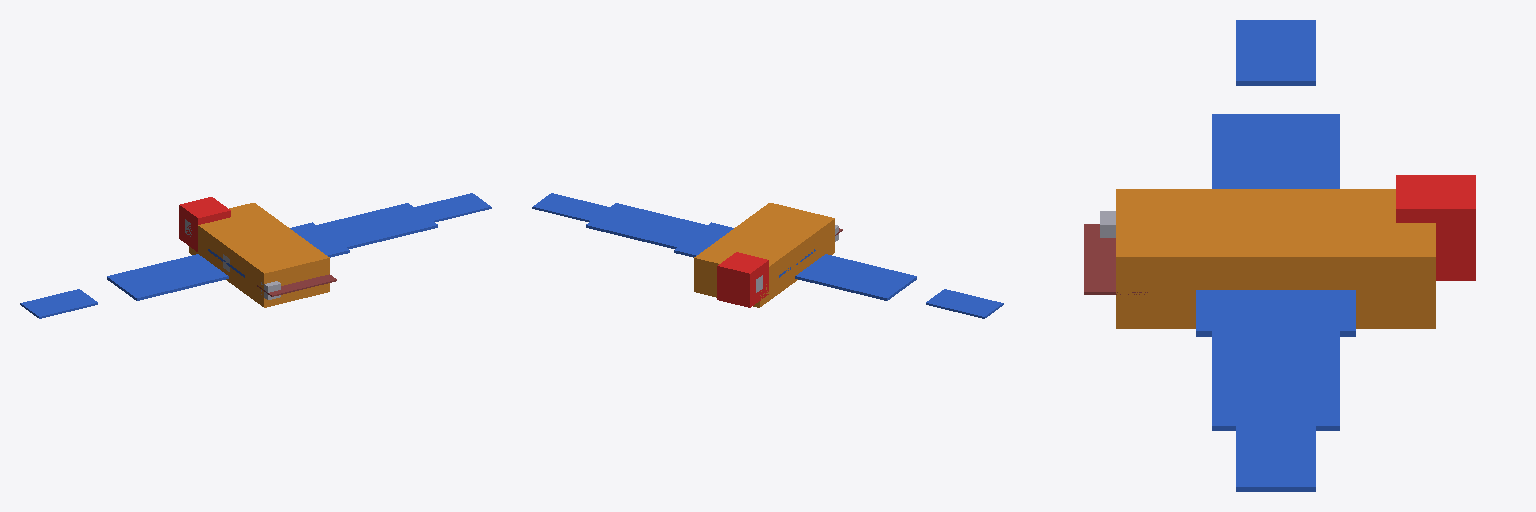
The robot description file, URDF, robot "flapper_15dof":
<?xml version="1.0"?>
<robot name="flapper_15dof">
  <link name="body">
    <inertial>
      <origin xyz="0 0 0"/>
      <mass value="0.012"/>
      <inertia ixx="4.250e-05" iyy="1.250e-05" izz="5.000e-05"/>
    </inertial>
    <visual>
      <origin xyz="0.05 0 0"/>
      <geometry><box size="0.1 0.2 0.05"/></geometry>
      <material name="body_mat"><color rgba="0.85 0.55 0.2 1"/></material>
    </visual>
    <collision>
      <origin xyz="0.05 0 0"/>
      <geometry><box size="0.1 0.2 0.05"/></geometry>
    </collision>
  </link>
  <link name="shoulder_l">
    <inertial>
      <origin xyz="0 0 0"/>
      <mass value="0.001"/>
      <inertia ixx="6.667e-08" iyy="6.667e-08" izz="6.667e-08"/>
    </inertial>
    <visual>
      <origin xyz="0.01 0 0"/>
      <geometry><box size="0.02 0.02 0.02"/></geometry>
      <material name="shoulder_l_mat"><color rgba="0.7 0.7 0.75 1"/></material>
    </visual>
    <collision>
      <origin xyz="0.01 0 0"/>
      <geometry><box size="0.02 0.02 0.02"/></geometry>
    </collision>
  </link>
  <link name="twist_link_l">
    <inertial>
      <origin xyz="0 0 0"/>
      <mass value="0.001"/>
      <inertia ixx="6.667e-08" iyy="6.667e-08" izz="6.667e-08"/>
    </inertial>
    <visual>
      <origin xyz="0.01 0 0"/>
      <geometry><box size="0.02 0.02 0.02"/></geometry>
      <material name="twist_link_l_mat"><color rgba="0.7 0.7 0.75 1"/></material>
    </visual>
    <collision>
      <origin xyz="0.01 0 0"/>
      <geometry><box size="0.02 0.02 0.02"/></geometry>
    </collision>
  </link>
  <link name="upper_arm_l">
    <inertial>
      <origin xyz="0 0 0"/>
      <mass value="0.002"/>
      <inertia ixx="1.669e-06" iyy="4.269e-06" izz="5.933e-06"/>
    </inertial>
    <visual>
      <origin xyz="0.08 0 0"/>
      <geometry><box size="0.16 0.1 0.004"/></geometry>
      <material name="upper_arm_l_mat"><color rgba="0.25 0.45 0.85 0.9"/></material>
    </visual>
    <collision>
      <origin xyz="0.08 0 0"/>
      <geometry><box size="0.16 0.1 0.004"/></geometry>
    </collision>
  </link>
  <link name="forearm_l">
    <inertial>
      <origin xyz="0 0 0"/>
      <mass value="0.0015"/>
      <inertia ixx="8.020e-07" iyy="2.452e-06" izz="3.250e-06"/>
    </inertial>
    <visual>
      <origin xyz="0.07 0 0"/>
      <geometry><box size="0.14 0.08 0.004"/></geometry>
      <material name="forearm_l_mat"><color rgba="0.25 0.45 0.85 0.9"/></material>
    </visual>
    <collision>
      <origin xyz="0.07 0 0"/>
      <geometry><box size="0.14 0.08 0.004"/></geometry>
    </collision>
  </link>
  <link name="hand_l">
    <inertial>
      <origin xyz="0 0 0"/>
      <mass value="0.001"/>
      <inertia ixx="2.091e-07" iyy="6.757e-07" izz="8.833e-07"/>
    </inertial>
    <visual>
      <origin xyz="0.045 0 0"/>
      <geometry><box size="0.09 0.05 0.003"/></geometry>
      <material name="hand_l_mat"><color rgba="0.25 0.45 0.85 0.9"/></material>
    </visual>
    <collision>
      <origin xyz="0.045 0 0"/>
      <geometry><box size="0.09 0.05 0.003"/></geometry>
    </collision>
  </link>
  <link name="shoulder_r">
    <inertial>
      <origin xyz="0 0 0"/>
      <mass value="0.001"/>
      <inertia ixx="6.667e-08" iyy="6.667e-08" izz="6.667e-08"/>
    </inertial>
    <visual>
      <origin xyz="0.01 0 0"/>
      <geometry><box size="0.02 0.02 0.02"/></geometry>
      <material name="shoulder_r_mat"><color rgba="0.7 0.7 0.75 1"/></material>
    </visual>
    <collision>
      <origin xyz="0.01 0 0"/>
      <geometry><box size="0.02 0.02 0.02"/></geometry>
    </collision>
  </link>
  <link name="twist_link_r">
    <inertial>
      <origin xyz="0 0 0"/>
      <mass value="0.001"/>
      <inertia ixx="6.667e-08" iyy="6.667e-08" izz="6.667e-08"/>
    </inertial>
    <visual>
      <origin xyz="0.01 0 0"/>
      <geometry><box size="0.02 0.02 0.02"/></geometry>
      <material name="twist_link_r_mat"><color rgba="0.7 0.7 0.75 1"/></material>
    </visual>
    <collision>
      <origin xyz="0.01 0 0"/>
      <geometry><box size="0.02 0.02 0.02"/></geometry>
    </collision>
  </link>
  <link name="upper_arm_r">
    <inertial>
      <origin xyz="0 0 0"/>
      <mass value="0.002"/>
      <inertia ixx="1.669e-06" iyy="4.269e-06" izz="5.933e-06"/>
    </inertial>
    <visual>
      <origin xyz="0.08 0 0"/>
      <geometry><box size="0.16 0.1 0.004"/></geometry>
      <material name="upper_arm_r_mat"><color rgba="0.25 0.45 0.85 0.9"/></material>
    </visual>
    <collision>
      <origin xyz="0.08 0 0"/>
      <geometry><box size="0.16 0.1 0.004"/></geometry>
    </collision>
  </link>
  <link name="forearm_r">
    <inertial>
      <origin xyz="0 0 0"/>
      <mass value="0.0015"/>
      <inertia ixx="8.020e-07" iyy="2.452e-06" izz="3.250e-06"/>
    </inertial>
    <visual>
      <origin xyz="0.07 0 0"/>
      <geometry><box size="0.14 0.08 0.004"/></geometry>
      <material name="forearm_r_mat"><color rgba="0.25 0.45 0.85 0.9"/></material>
    </visual>
    <collision>
      <origin xyz="0.07 0 0"/>
      <geometry><box size="0.14 0.08 0.004"/></geometry>
    </collision>
  </link>
  <link name="hand_r">
    <inertial>
      <origin xyz="0 0 0"/>
      <mass value="0.001"/>
      <inertia ixx="2.091e-07" iyy="6.757e-07" izz="8.833e-07"/>
    </inertial>
    <visual>
      <origin xyz="0.045 0 0"/>
      <geometry><box size="0.09 0.05 0.003"/></geometry>
      <material name="hand_r_mat"><color rgba="0.25 0.45 0.85 0.9"/></material>
    </visual>
    <collision>
      <origin xyz="0.045 0 0"/>
      <geometry><box size="0.09 0.05 0.003"/></geometry>
    </collision>
  </link>
  <link name="tail_yaw_link">
    <inertial>
      <origin xyz="0 0 0"/>
      <mass value="0.001"/>
      <inertia ixx="6.667e-08" iyy="6.667e-08" izz="6.667e-08"/>
    </inertial>
    <visual>
      <origin xyz="0.01 0 0"/>
      <geometry><box size="0.02 0.02 0.02"/></geometry>
      <material name="tail_yaw_link_mat"><color rgba="0.7 0.7 0.75 1"/></material>
    </visual>
    <collision>
      <origin xyz="0.01 0 0"/>
      <geometry><box size="0.02 0.02 0.02"/></geometry>
    </collision>
  </link>
  <link name="tail_roll_link">
    <inertial>
      <origin xyz="0 0 0"/>
      <mass value="0.001"/>
      <inertia ixx="6.667e-08" iyy="6.667e-08" izz="6.667e-08"/>
    </inertial>
    <visual>
      <origin xyz="0.01 0 0"/>
      <geometry><box size="0.02 0.02 0.02"/></geometry>
      <material name="tail_roll_link_mat"><color rgba="0.7 0.7 0.75 1"/></material>
    </visual>
    <collision>
      <origin xyz="0.01 0 0"/>
      <geometry><box size="0.02 0.02 0.02"/></geometry>
    </collision>
  </link>
  <link name="tail">
    <inertial>
      <origin xyz="0 0 0"/>
      <mass value="0.001"/>
      <inertia ixx="1.337e-07" iyy="8.337e-07" izz="9.667e-07"/>
    </inertial>
    <visual>
      <origin xyz="0.05 0 0"/>
      <geometry><box size="0.1 0.04 0.002"/></geometry>
      <material name="tail_mat"><color rgba="0.6 0.3 0.3 1"/></material>
    </visual>
    <collision>
      <origin xyz="0.05 0 0"/>
      <geometry><box size="0.1 0.04 0.002"/></geometry>
    </collision>
  </link>
  <link name="neck_yaw_link">
    <inertial>
      <origin xyz="0 0 0"/>
      <mass value="0.0005"/>
      <inertia ixx="3.333e-08" iyy="3.333e-08" izz="3.333e-08"/>
    </inertial>
    <visual>
      <origin xyz="0.01 0 0"/>
      <geometry><box size="0.02 0.02 0.02"/></geometry>
      <material name="neck_yaw_link_mat"><color rgba="0.7 0.7 0.75 1"/></material>
    </visual>
    <collision>
      <origin xyz="0.01 0 0"/>
      <geometry><box size="0.02 0.02 0.02"/></geometry>
    </collision>
  </link>
  <link name="head">
    <inertial>
      <origin xyz="0 0 0"/>
      <mass value="0.001"/>
      <inertia ixx="4.167e-07" iyy="4.167e-07" izz="4.167e-07"/>
    </inertial>
    <visual>
      <origin xyz="0.025 0 0"/>
      <geometry><box size="0.05 0.05 0.05"/></geometry>
      <material name="head_mat"><color rgba="0.9 0.2 0.2 1"/></material>
    </visual>
    <collision>
      <origin xyz="0.025 0 0"/>
      <geometry><box size="0.05 0.05 0.05"/></geometry>
    </collision>
  </link>
  <joint name="wing_l_flap" type="revolute">
    <parent link="body"/>
    <child link="shoulder_l"/>
    <origin xyz="0 0 0"/>
    <axis xyz="0 1 0"/>
    <limit lower="-1.2" upper="1.2" effort="5.0" velocity="30.0"/>
  </joint>
  <joint name="wing_l_sweep" type="revolute">
    <parent link="shoulder_l"/>
    <child link="twist_link_l"/>
    <origin xyz="0 0 0"/>
    <axis xyz="0 0 1"/>
    <limit lower="-0.5" upper="0.5" effort="5.0" velocity="30.0"/>
  </joint>
  <joint name="wing_l_twist" type="revolute">
    <parent link="twist_link_l"/>
    <child link="upper_arm_l"/>
    <origin xyz="0 0 0"/>
    <axis xyz="1 0 0"/>
    <limit lower="-0.8" upper="0.8" effort="5.0" velocity="30.0"/>
  </joint>
  <joint name="wing_l_elbow" type="revolute">
    <parent link="upper_arm_l"/>
    <child link="forearm_l"/>
    <origin xyz="0.16 0 0"/>
    <axis xyz="0 0 1"/>
    <limit lower="-0.9" upper="0.9" effort="5.0" velocity="30.0"/>
  </joint>
  <joint name="wing_l_wrist" type="revolute">
    <parent link="forearm_l"/>
    <child link="hand_l"/>
    <origin xyz="0.14 0 0"/>
    <axis xyz="0 0 1"/>
    <limit lower="-0.6" upper="0.6" effort="5.0" velocity="30.0"/>
  </joint>
  <joint name="wing_r_flap" type="revolute">
    <parent link="body"/>
    <child link="shoulder_r"/>
    <origin xyz="0 0 0"/>
    <axis xyz="0 1 0"/>
    <limit lower="-1.2" upper="1.2" effort="5.0" velocity="30.0"/>
  </joint>
  <joint name="wing_r_sweep" type="revolute">
    <parent link="shoulder_r"/>
    <child link="twist_link_r"/>
    <origin xyz="0 0 0"/>
    <axis xyz="0 0 1"/>
    <limit lower="-0.5" upper="0.5" effort="5.0" velocity="30.0"/>
  </joint>
  <joint name="wing_r_twist" type="revolute">
    <parent link="twist_link_r"/>
    <child link="upper_arm_r"/>
    <origin xyz="0 0 0"/>
    <axis xyz="-1 0 0"/>
    <limit lower="-0.8" upper="0.8" effort="5.0" velocity="30.0"/>
  </joint>
  <joint name="wing_r_elbow" type="revolute">
    <parent link="upper_arm_r"/>
    <child link="forearm_r"/>
    <origin xyz="-0.16 0 0"/>
    <axis xyz="0 0 1"/>
    <limit lower="-0.9" upper="0.9" effort="5.0" velocity="30.0"/>
  </joint>
  <joint name="wing_r_wrist" type="revolute">
    <parent link="forearm_r"/>
    <child link="hand_r"/>
    <origin xyz="-0.14 0 0"/>
    <axis xyz="0 0 1"/>
    <limit lower="-0.6" upper="0.6" effort="5.0" velocity="30.0"/>
  </joint>
  <joint name="tail_pitch" type="revolute">
    <parent link="body"/>
    <child link="tail_yaw_link"/>
    <origin xyz="0 -0.1 0"/>
    <axis xyz="0 1 0"/>
    <limit lower="-0.6" upper="0.6" effort="5.0" velocity="30.0"/>
  </joint>
  <joint name="tail_yaw" type="revolute">
    <parent link="tail_yaw_link"/>
    <child link="tail_roll_link"/>
    <origin xyz="0 0 0"/>
    <axis xyz="0 0 1"/>
    <limit lower="-0.6" upper="0.6" effort="5.0" velocity="30.0"/>
  </joint>
  <joint name="tail_roll" type="revolute">
    <parent link="tail_roll_link"/>
    <child link="tail"/>
    <origin xyz="0 0 0"/>
    <axis xyz="1 0 0"/>
    <limit lower="-0.5" upper="0.5" effort="5.0" velocity="30.0"/>
  </joint>
  <joint name="neck_pitch" type="revolute">
    <parent link="body"/>
    <child link="neck_yaw_link"/>
    <origin xyz="0 0.1 0.01"/>
    <axis xyz="0 1 0"/>
    <limit lower="-0.5" upper="0.5" effort="5.0" velocity="30.0"/>
  </joint>
  <joint name="neck_yaw" type="revolute">
    <parent link="neck_yaw_link"/>
    <child link="head"/>
    <origin xyz="0 0 0"/>
    <axis xyz="0 0 1"/>
    <limit lower="-0.8" upper="0.8" effort="5.0" velocity="30.0"/>
  </joint>
</robot>

--- Render facts (derived) ---
The picture shows the robot from 3 angles, left to right: view 1: azimuth 30°, elevation 25°; view 2: azimuth 150°, elevation 25°; view 3: azimuth 270°, elevation 25°; orthographic projection.
Robot: flapper_15dof — 16 links, 15 joints (15 revolute); root link body; default pose: all joints at 0.
Links seen in each view (by area): view 1: body, forearm_r, forearm_l, head, hand_r, hand_l, upper_arm_l, tail; view 2: body, forearm_r, forearm_l, head, hand_r, hand_l, upper_arm_l; view 3: body, forearm_l, forearm_r, upper_arm_l, head, hand_l, hand_r, tail.
Boxes of the visible links, x1,y1,x2,y2 form: body: (189, 203, 329, 307); forearm_r: (107, 254, 228, 300); forearm_l: (317, 203, 437, 248); head: (179, 197, 230, 251); hand_r: (20, 289, 97, 318); hand_l: (414, 193, 491, 221); upper_arm_l: (208, 222, 349, 277); tail: (257, 274, 336, 296); body: (694, 203, 834, 307); forearm_r: (795, 254, 916, 300); forearm_l: (586, 203, 706, 248); head: (717, 252, 768, 307); hand_r: (926, 289, 1003, 318); hand_l: (532, 193, 609, 221); upper_arm_l: (674, 222, 815, 277); body: (1116, 189, 1435, 328); forearm_l: (1212, 331, 1339, 430); forearm_r: (1212, 114, 1339, 188); upper_arm_l: (1196, 290, 1355, 336); head: (1396, 175, 1475, 280); hand_l: (1236, 426, 1315, 491); hand_r: (1236, 20, 1315, 85); tail: (1084, 224, 1147, 294).
Bounding box of the posed robot: 0.69 × 0.245 × 0.06 m (x, y, z).
Geometry: primitives only (box / cylinder / sphere), no mesh files.
